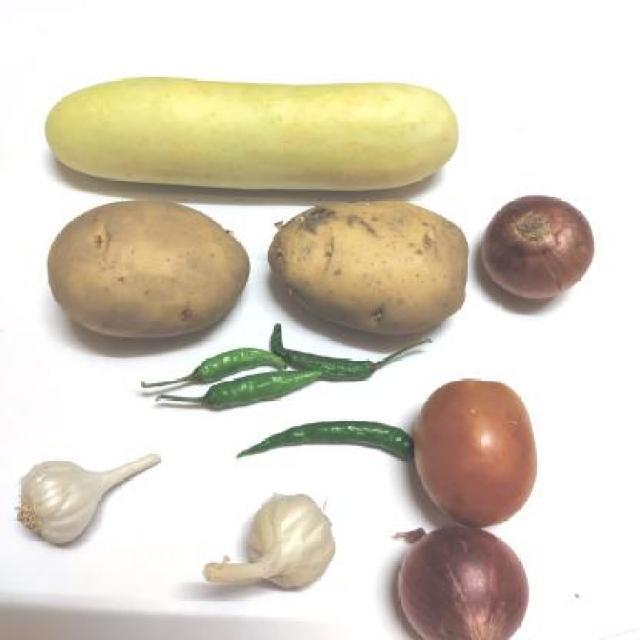Onion: (384, 524, 538, 640), (474, 184, 597, 314)
Potato: (12, 196, 265, 342), (258, 188, 480, 344)
Tomato: (406, 380, 543, 528)
